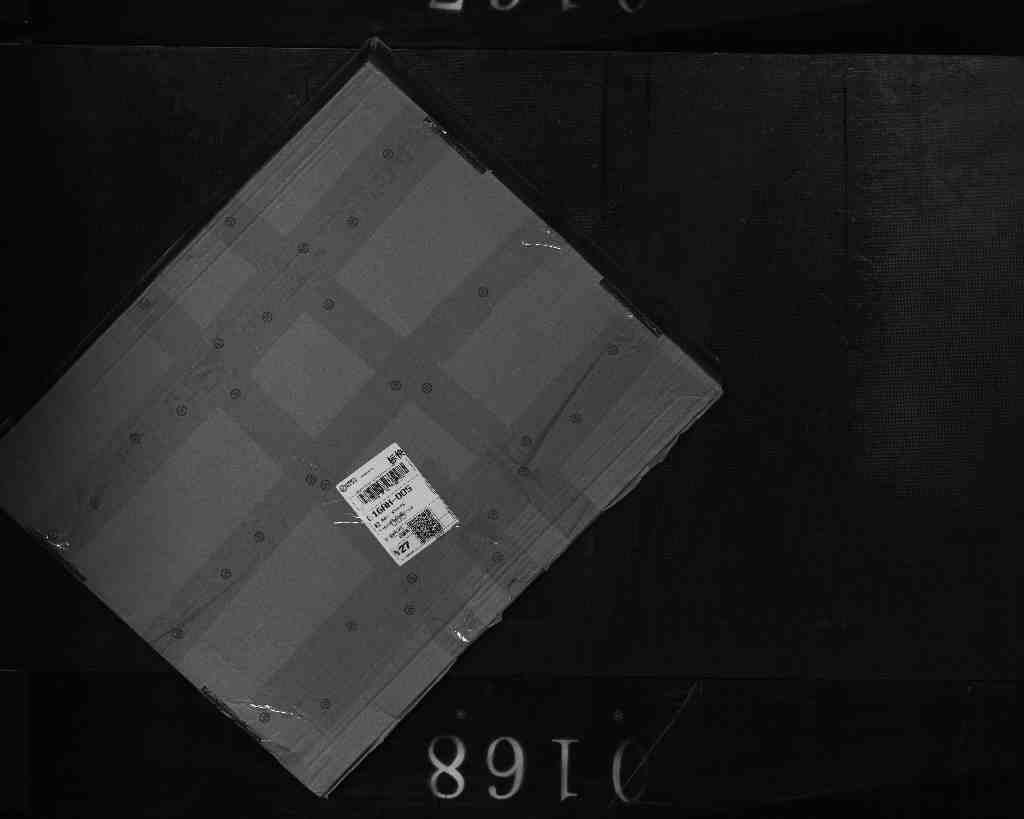box: (1, 30, 730, 799)
